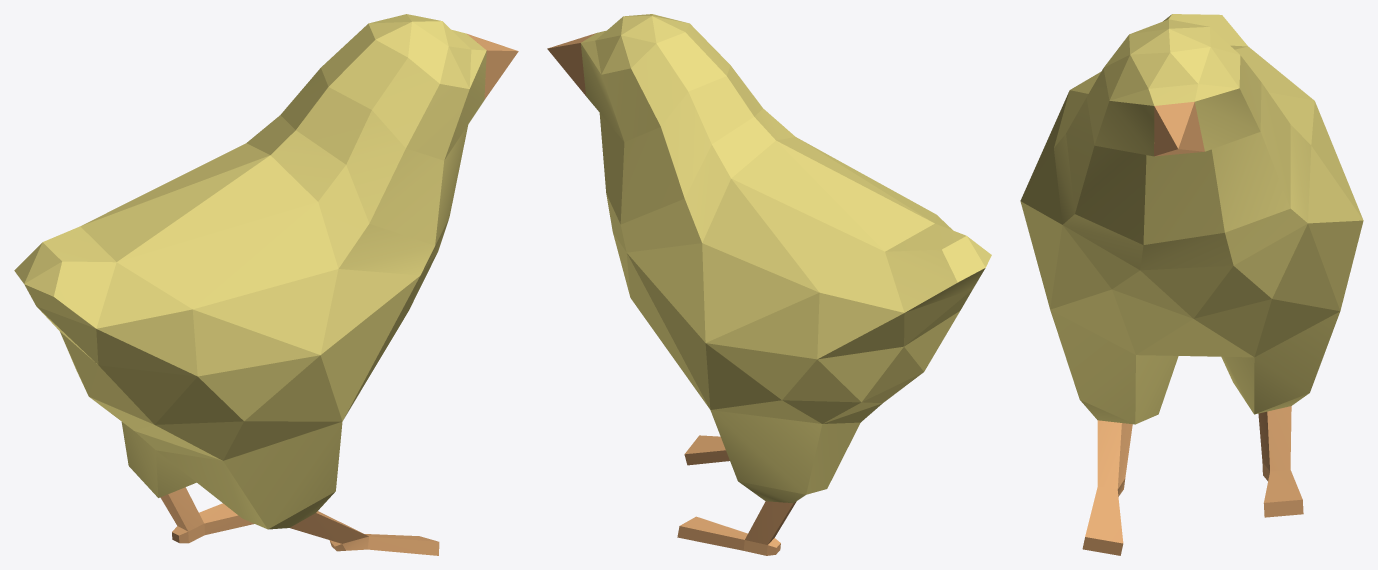
File: bete-chick.glb
The picture shows the model from 3 angles, left to right: view 1: azimuth 30°, elevation 25°; view 2: azimuth 150°, elevation 25°; view 3: azimuth 270°, elevation 25°; orthographic projection. The views are drawn at different scales.
Visible parts, largest first — view 1: Icosphere_1, Icosphere_2; view 2: Icosphere_1, Icosphere_2; view 3: Icosphere_1, Icosphere_2.
Boxes of the visible parts, x1=… form: Icosphere_1: x1=14, y1=14, x2=486, y2=529; Icosphere_2: x1=160, y1=34, x2=518, y2=555; Icosphere_1: x1=580, y1=14, x2=991, y2=503; Icosphere_2: x1=547, y1=33, x2=796, y2=555; Icosphere_1: x1=1020, y1=14, x2=1363, y2=424; Icosphere_2: x1=1082, y1=101, x2=1303, y2=555.
Size of the model in its own units: 0.1946 by 0.1945 by 0.1122.
